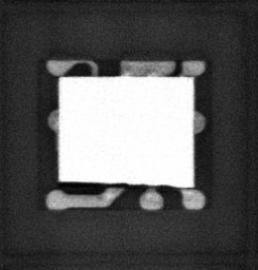DIE_BROKEN: (56, 179, 177, 190)
